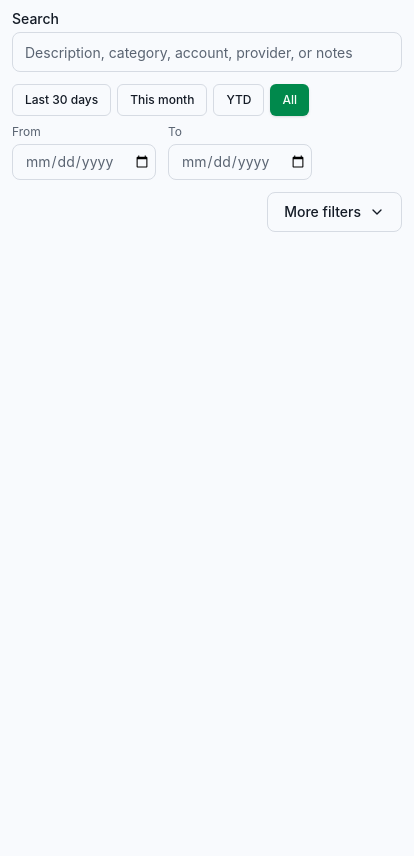
Test case: TransactionFilterBar progressive disclosure › expands and collapses through the Filters toggle
Click the button "More filters" at x=335, y=212, box [267,192,402,232]
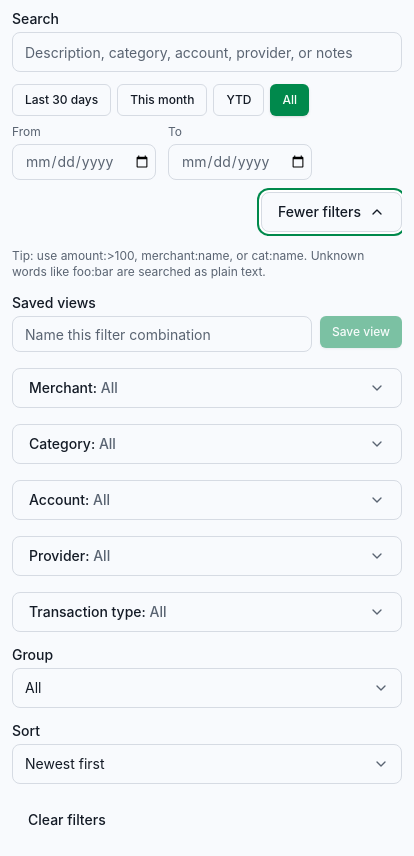
Expected: the button "Fewer filters" is expanded
Expected: the field labelled "Saved views" is shown, [12,316,312,352]
Expected: the text "Tip: use amount" is shown, [12,248,364,279]
Click the button "Fewer filters" at x=332, y=212, box [261,192,402,232]
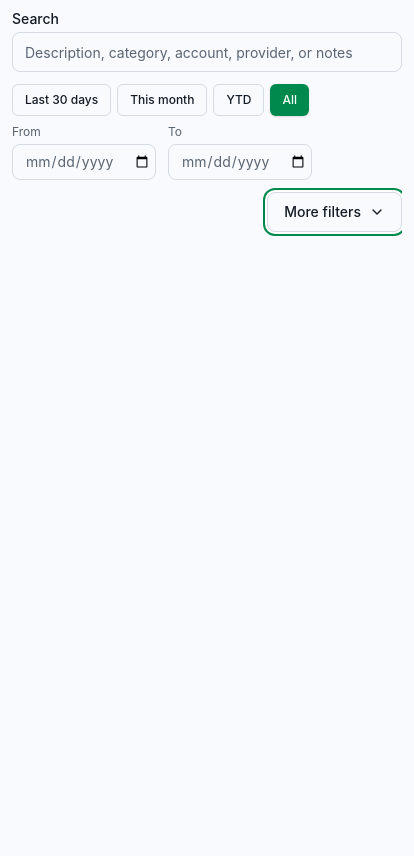
Expected: the button "More filters" is collapsed, [267,192,402,232]
Expected: the label labelled "Saved views" is gone
